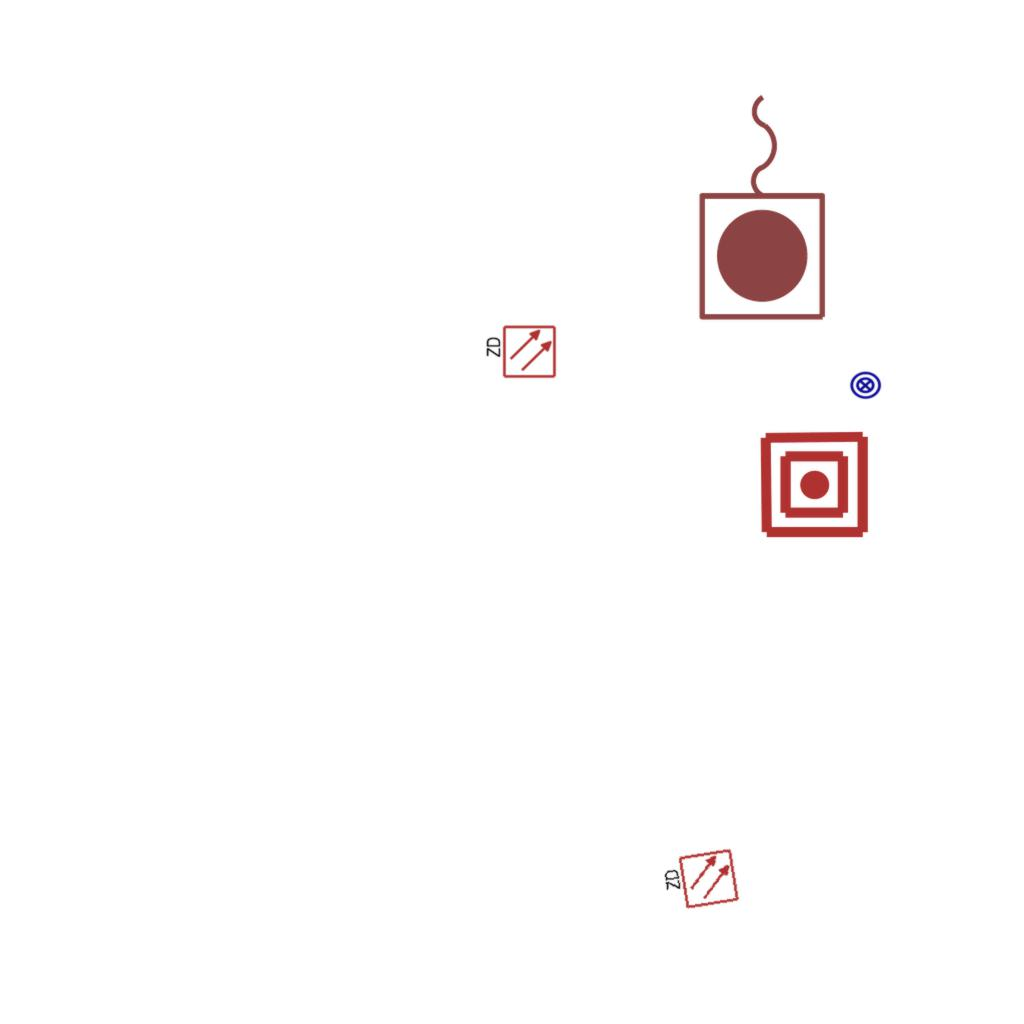NAM-Nichtautomatischer_Melder: (758, 428, 871, 541)
Taster_beleuchtet: (849, 369, 882, 402)
ZD_Melder_in_Zwischendecke_mit_Revisionsoeffnung_mind_40_x_40_cm: (658, 847, 741, 915), (483, 324, 557, 381)
Zugtaster: (692, 84, 836, 328)
